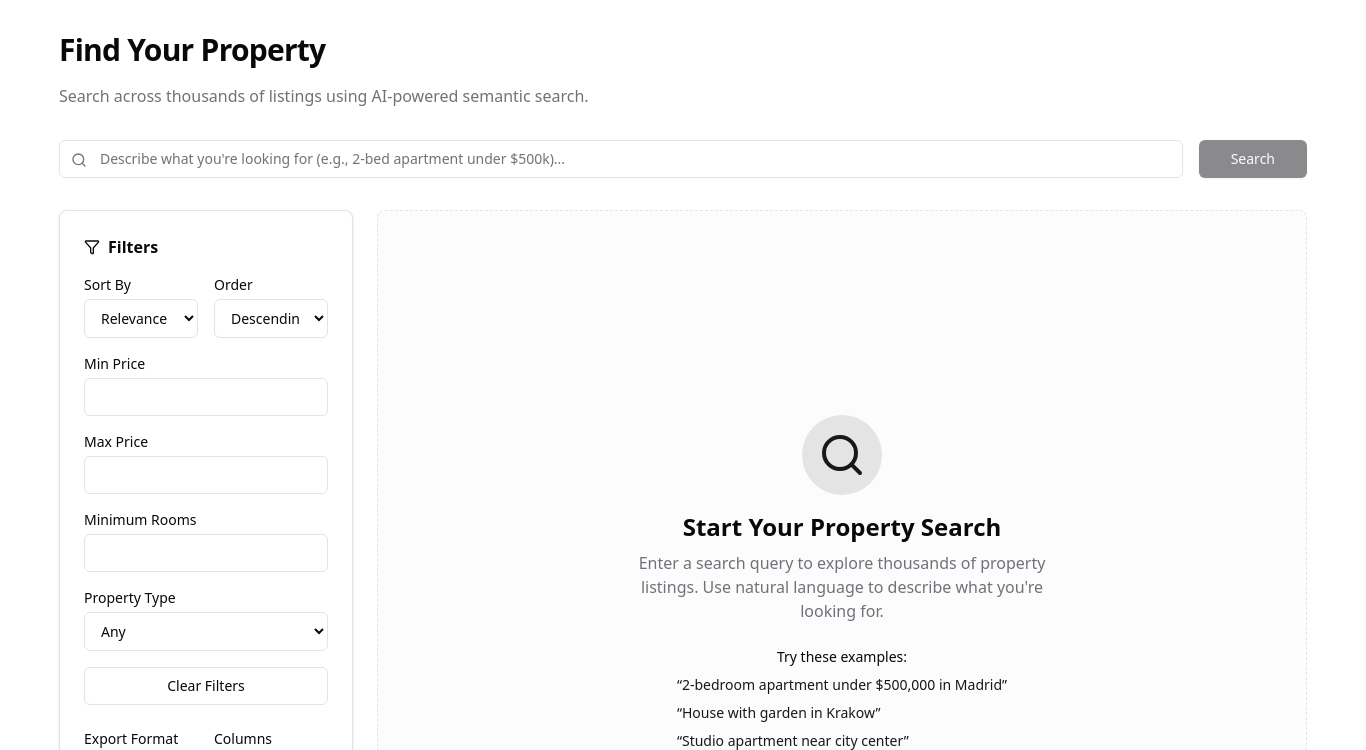
Test: SearchPage › displays no results message
Replace the text in the field named "Search query" with "Nowhere" at [621, 159], box [59,140,1183,178]
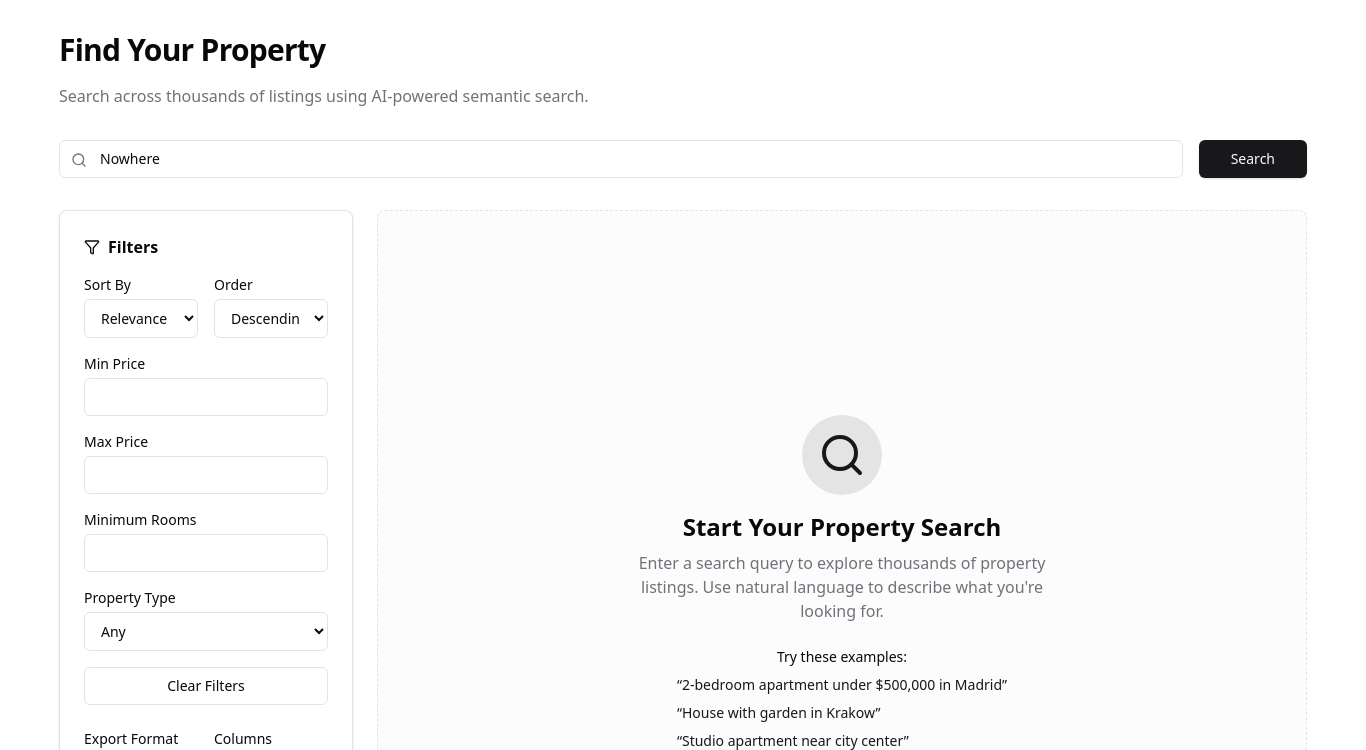
Click the button "Search" at [1253, 159], box [1199,140,1307,178]
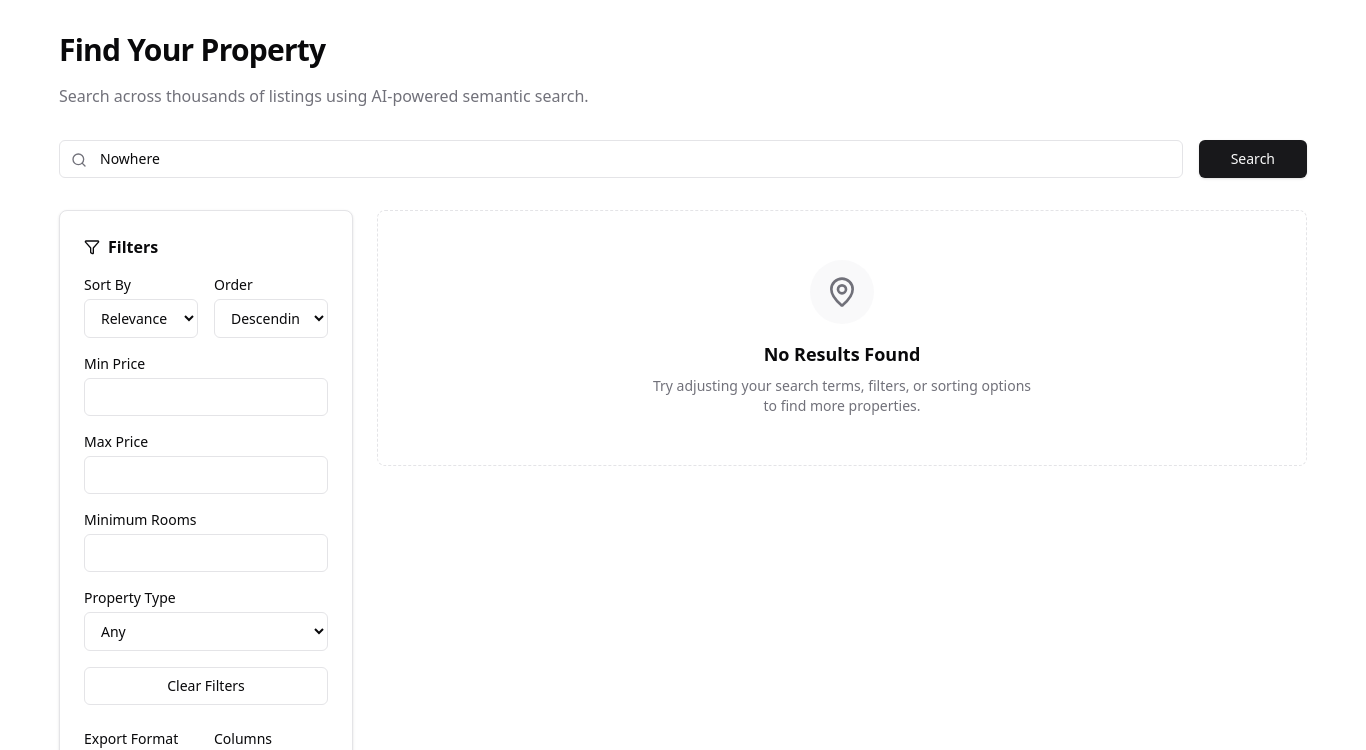
Expected: the heading "No Results Found" is shown, [764,340,920,368]
